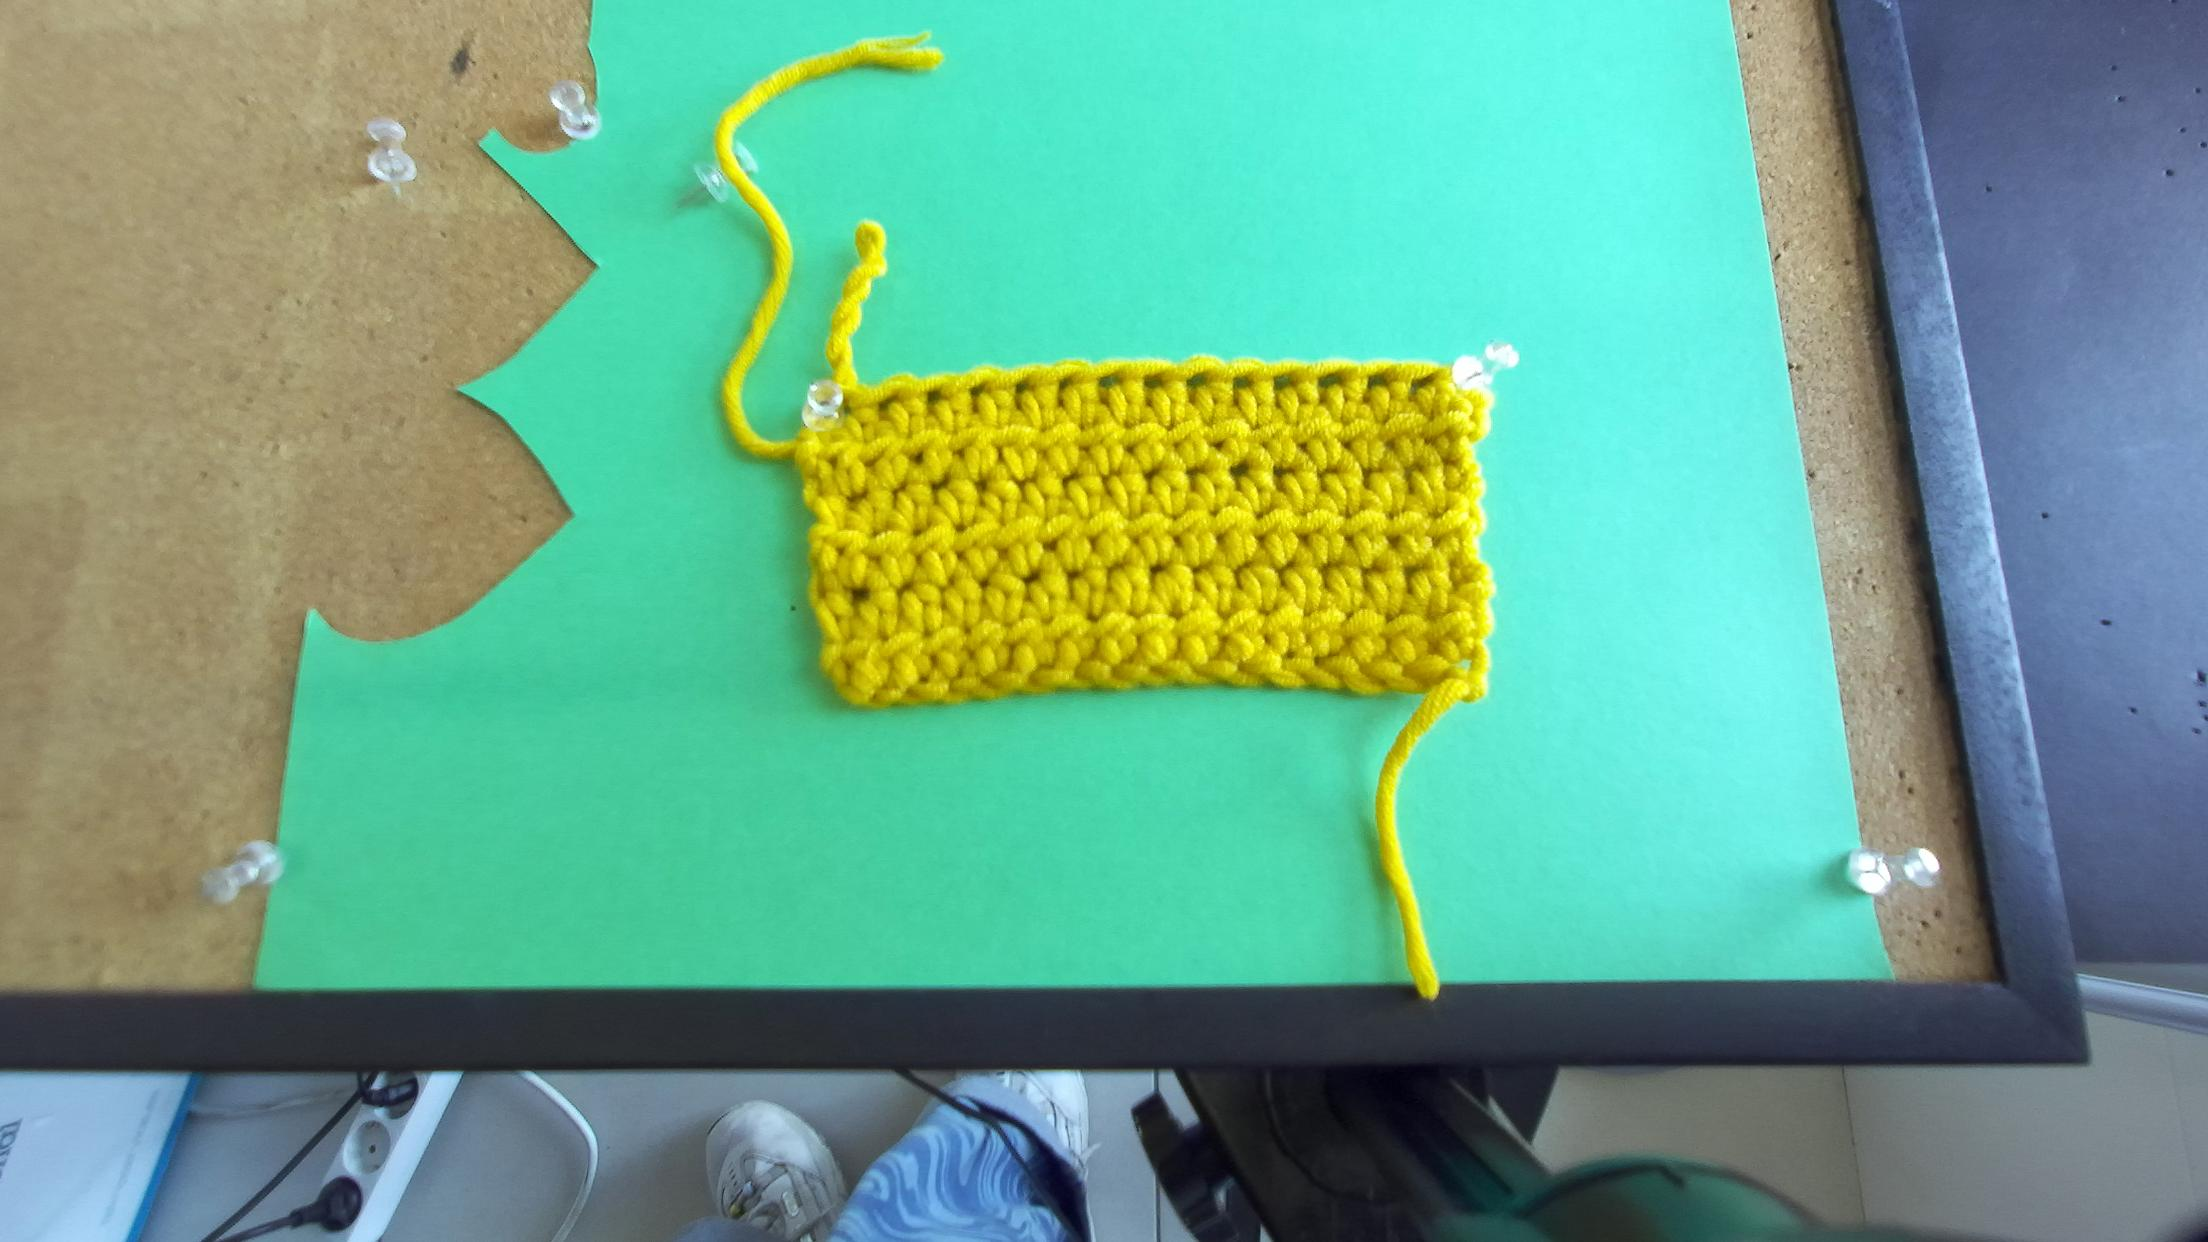hole: (1097, 370, 1125, 390), (1409, 372, 1434, 394), (926, 385, 949, 407), (1317, 371, 1342, 388), (879, 391, 898, 412), (1274, 373, 1294, 392), (1368, 373, 1389, 389), (1014, 375, 1030, 395), (967, 381, 985, 398), (1058, 375, 1076, 392), (1144, 374, 1163, 390), (1187, 373, 1206, 388), (1233, 375, 1254, 388)
swatch: (794, 361, 1496, 714)
